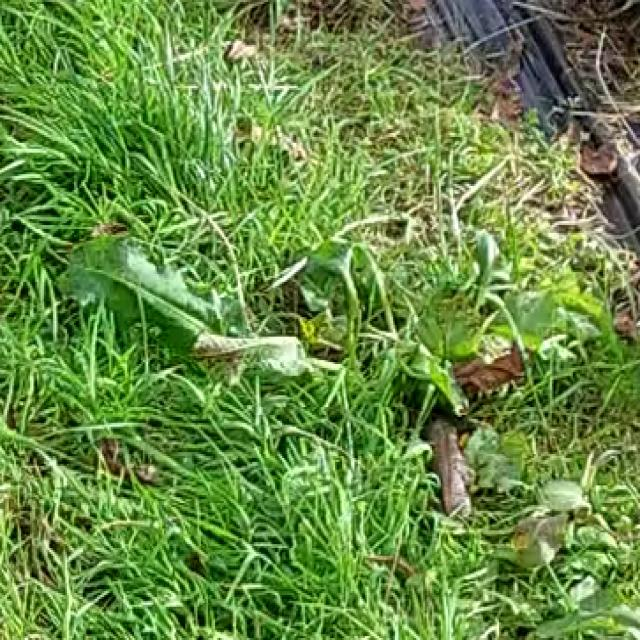organic waste: (109, 167, 596, 440)
